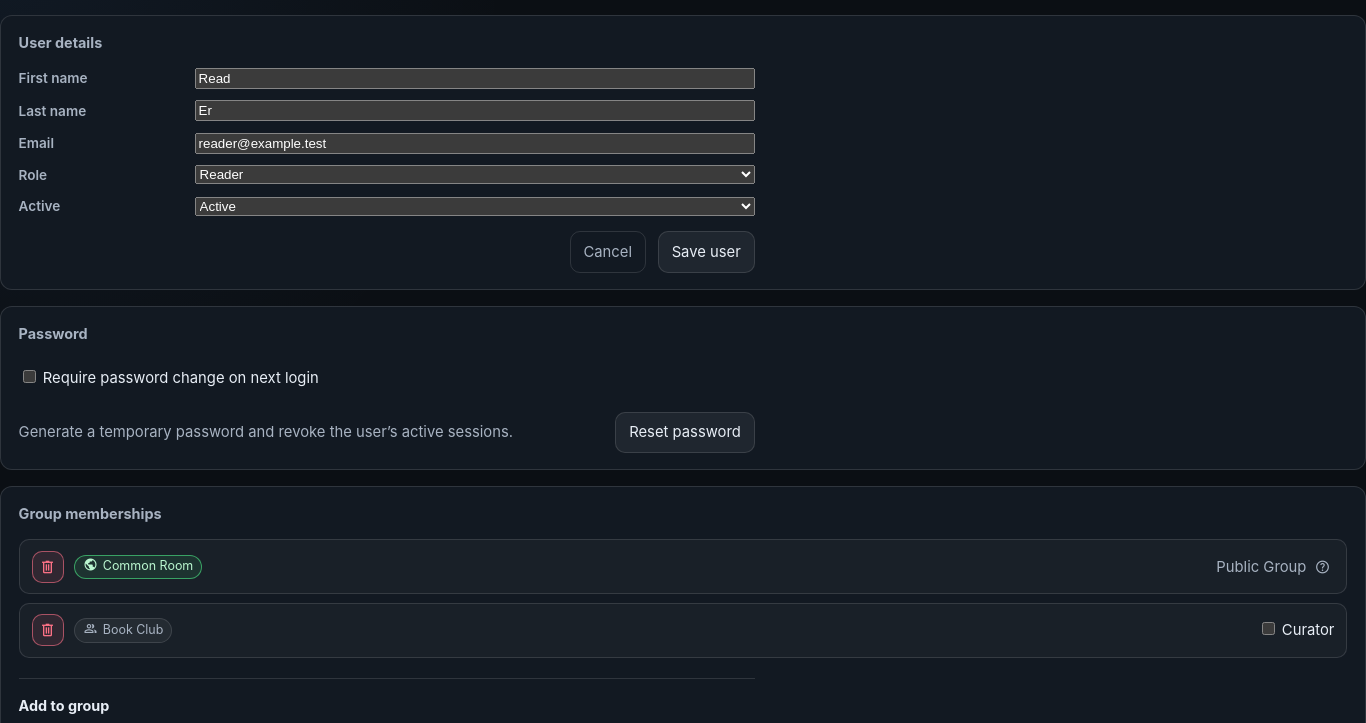
it: UserEditOrchestrator › preserves membership state when confirmed removal fails
Click the button named "Remove Book Club": (48, 630) top-left (32, 614), bottom-right (64, 646)
(page scrolled)
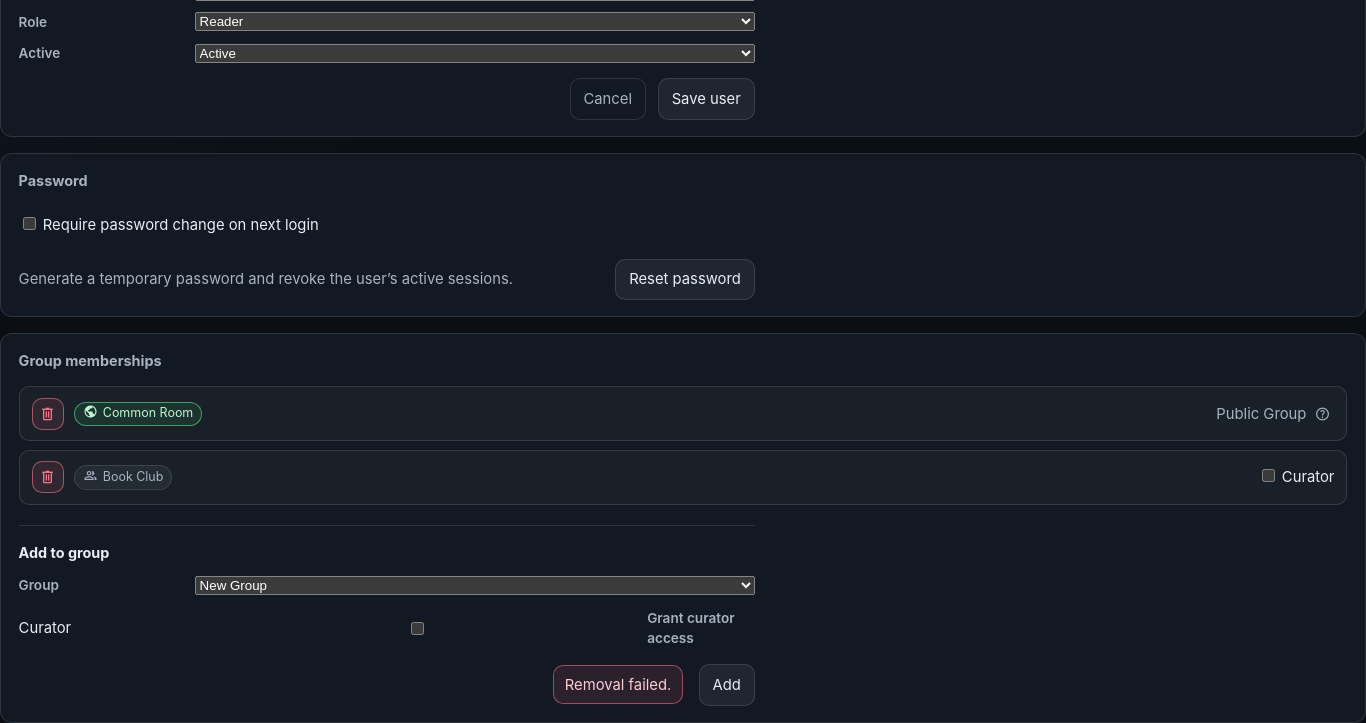
expect the button named "Remove Book Club" is shown: met, box top-left (32, 461), bottom-right (64, 493)
expect the message "Removal failed." is shown: met, box top-left (553, 665), bottom-right (683, 704)
